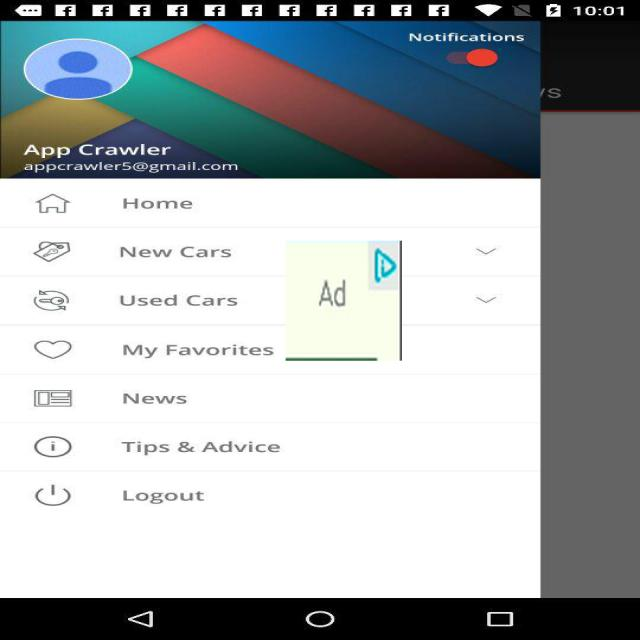sneaking: (286, 240, 402, 360)
